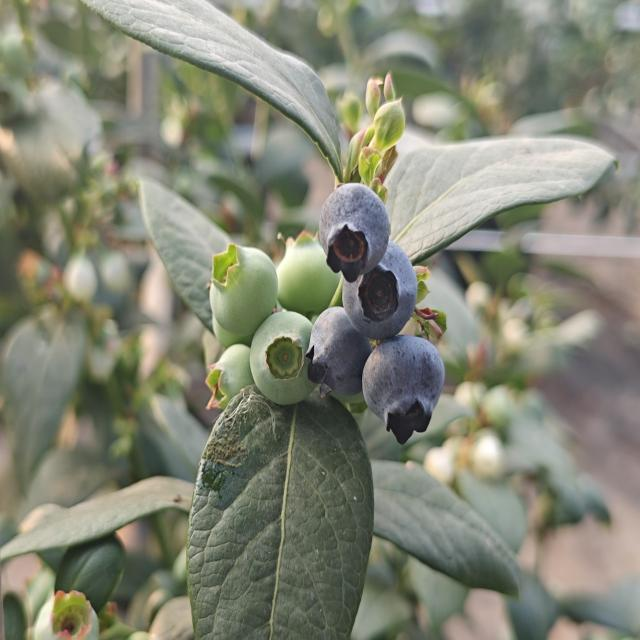ripe: (356, 327, 450, 441), (315, 192, 384, 284), (352, 248, 415, 338), (306, 304, 362, 391)
